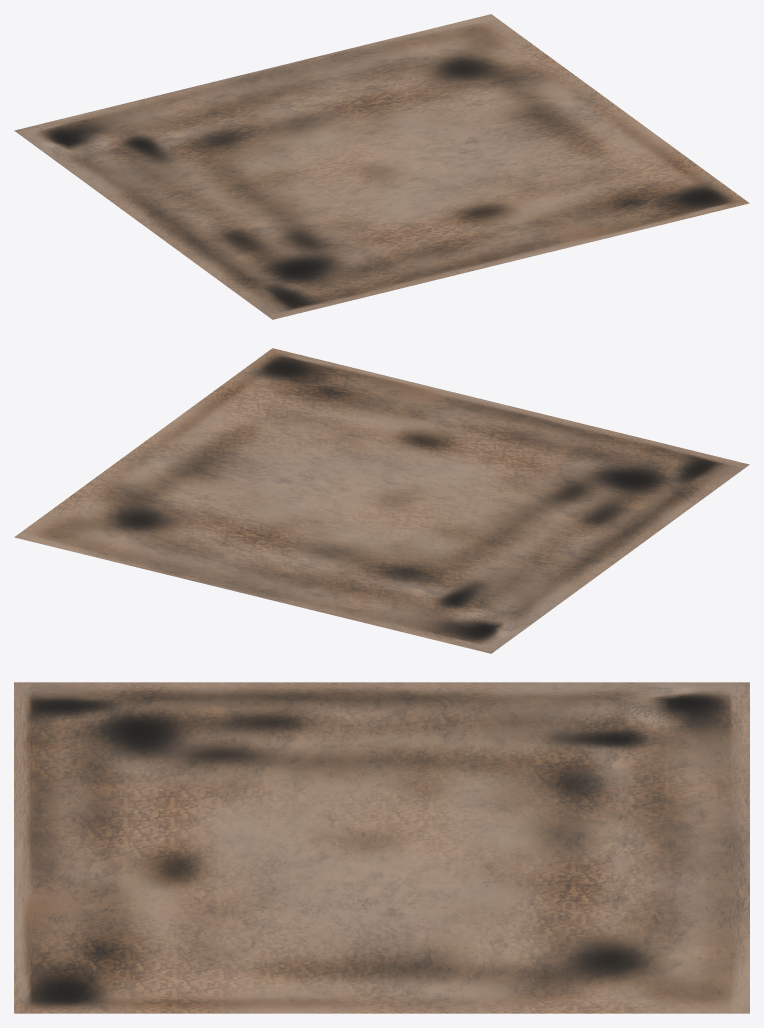
File: Cenario_04_chao.fbx
3 renders of one model, top to bottom at view 1: azimuth 30°, elevation 25°; view 2: azimuth 150°, elevation 25°; view 3: azimuth 270°, elevation 25°, orthographic. The views are drawn at different scales.
Visible parts, largest first — view 1: chao; view 2: chao; view 3: chao.
Part boxes in pixels (x1,y1,x2,y2): chao: (14,14,749,319); chao: (14,348,749,653); chao: (14,682,749,1013).
Bounding box in the file's own units: 266 × 6.56e-14 × 250.
